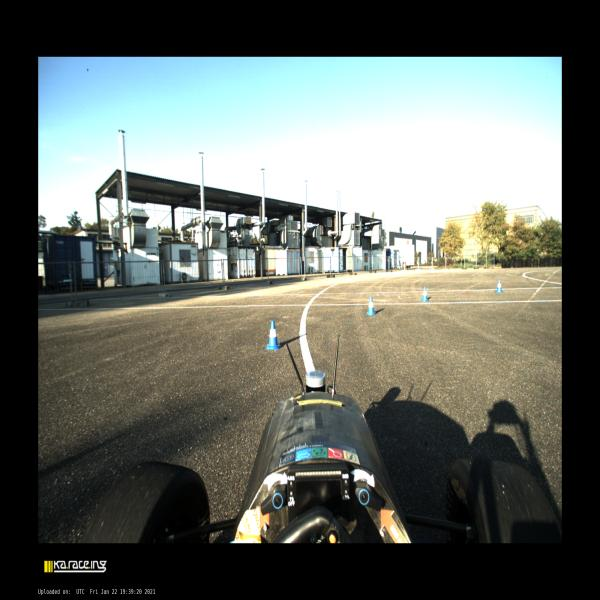blue_cone: (266, 320, 281, 349), (366, 297, 377, 315), (420, 287, 429, 301), (495, 280, 503, 292)
